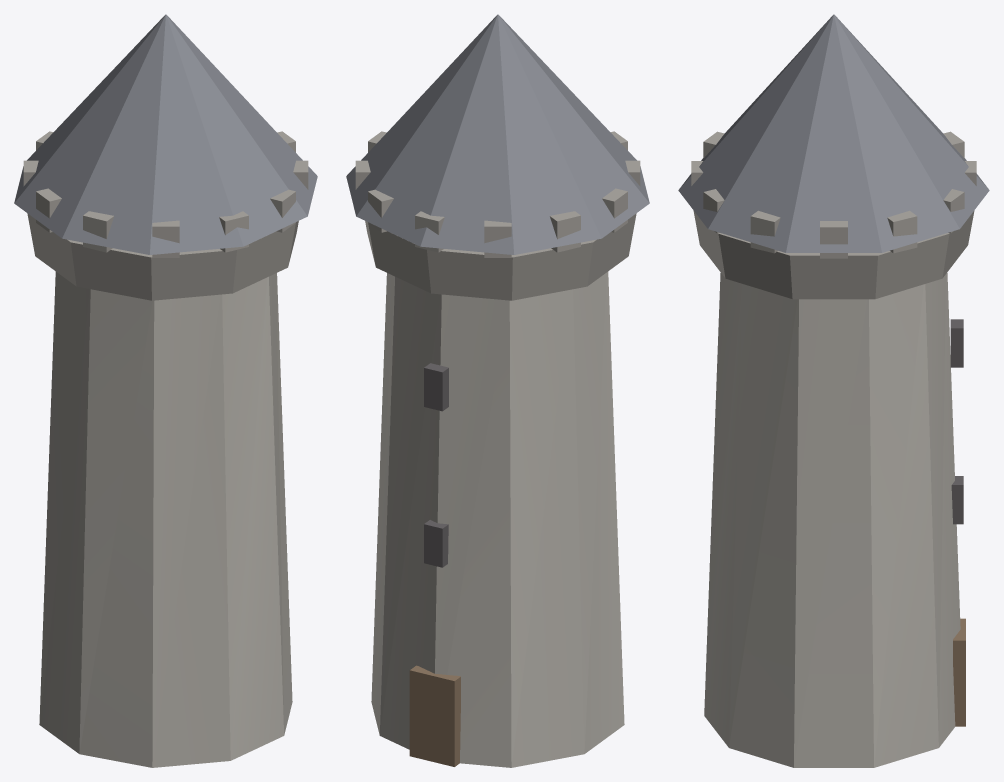
3 views of the same model, side by side, from view 1: azimuth 30°, elevation 25°; view 2: azimuth 150°, elevation 25°; view 3: azimuth 270°, elevation 25° (orthographic).
Parts seen in each view (by area): view 1: architecture.watchtower; view 2: architecture.watchtower; view 3: architecture.watchtower.
Boxes of the visible parts, x1,y1,x2,y2 form: architecture.watchtower: (14, 14, 317, 767); architecture.watchtower: (346, 14, 649, 767); architecture.watchtower: (678, 14, 989, 767).
Bounding box in the file's own units: 6.85 × 17.9 × 7.2.
